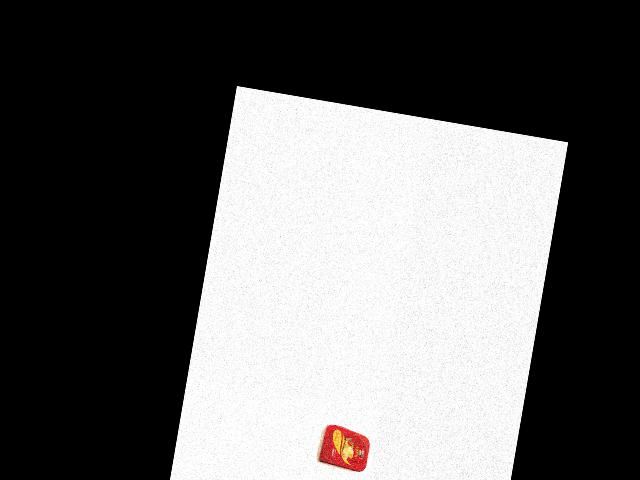cheese: (315, 422, 375, 475)
